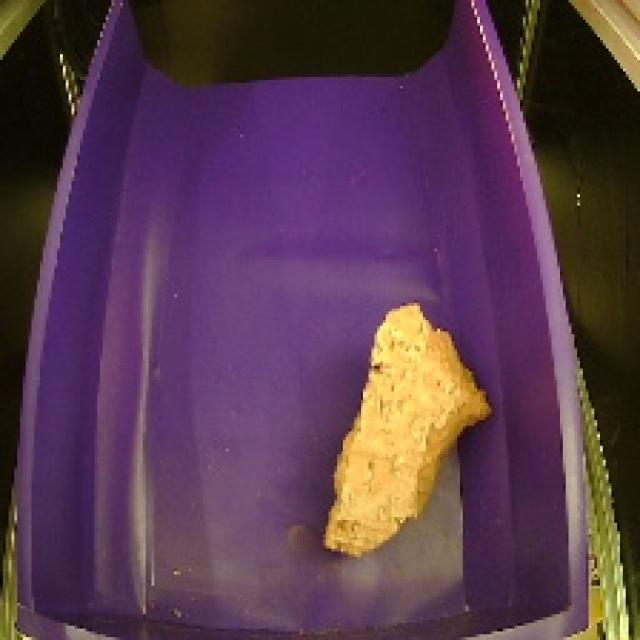brick: (313, 291, 498, 564)
